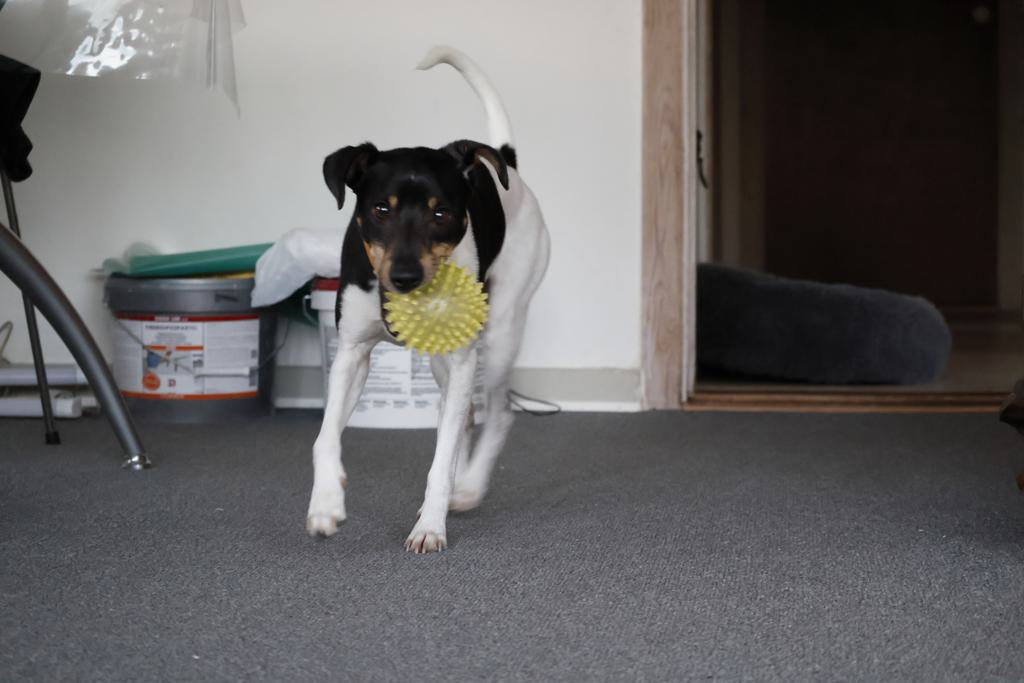Dog: (278, 32, 556, 560)
